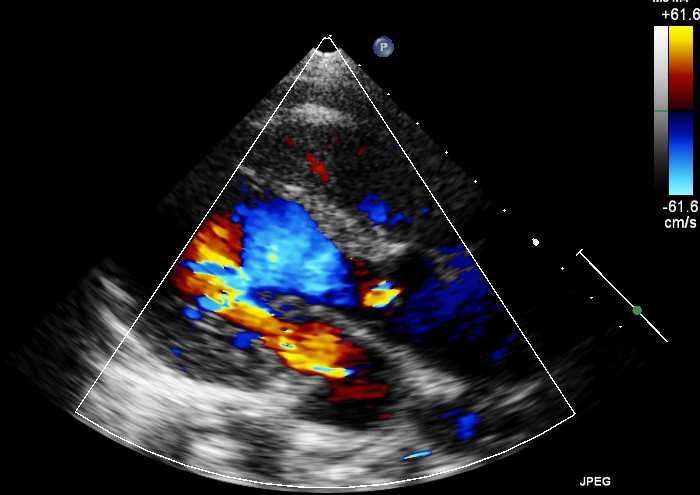AR: (364, 262, 401, 327)
